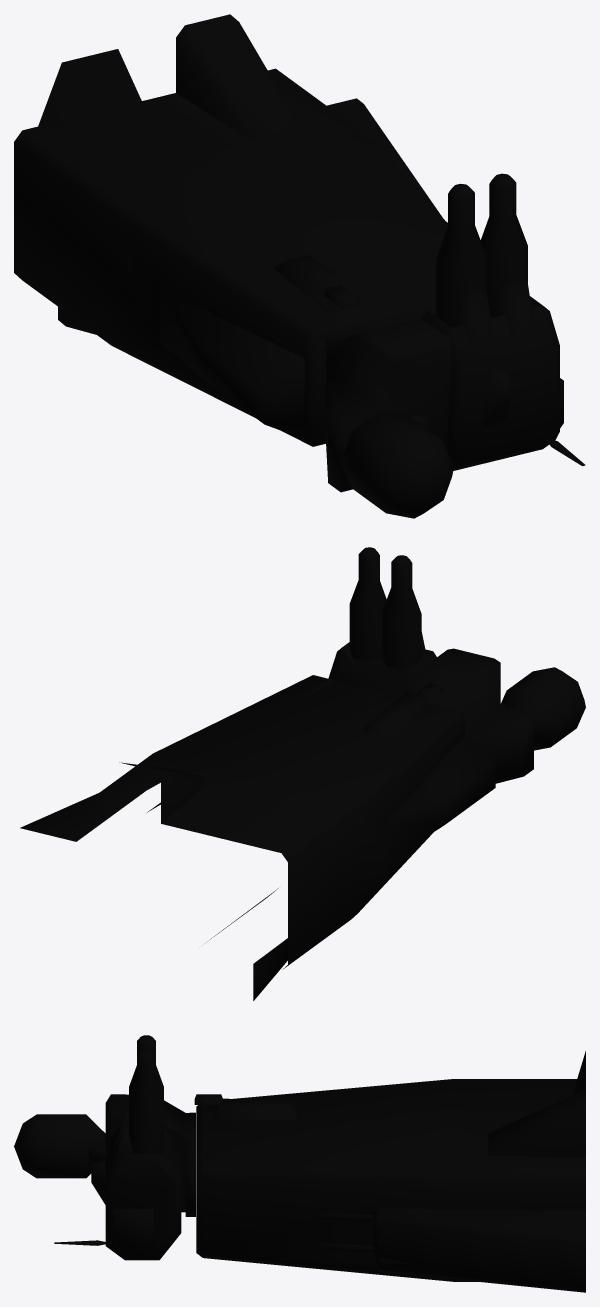
The model's file is turret_hgn_hq_kinetic_01_0.glb.
3 views of the same model, one above another, from view 1: azimuth 30°, elevation 25°; view 2: azimuth 150°, elevation 25°; view 3: azimuth 270°, elevation 25° (orthographic). The views are drawn at different scales.
Parts seen in each view (by area): view 1: turret_hgn_hq_kinetic_01, turret_hgn_hq_kinetic_01_head_low, turret_hgn_hq_kinetic_01_rotate_low; view 2: turret_hgn_hq_kinetic_01, turret_hgn_hq_kinetic_01_rotate_low, turret_hgn_hq_kinetic_01_head_low; view 3: turret_hgn_hq_kinetic_01, turret_hgn_hq_kinetic_01_head_low, turret_hgn_hq_kinetic_01_rotate_low.
Part boxes in pixels (x1,y1,x2,y2): turret_hgn_hq_kinetic_01: [14, 14, 447, 446]; turret_hgn_hq_kinetic_01_head_low: [422, 173, 585, 470]; turret_hgn_hq_kinetic_01_rotate_low: [326, 318, 453, 518]; turret_hgn_hq_kinetic_01: [20, 675, 495, 1000]; turret_hgn_hq_kinetic_01_rotate_low: [411, 648, 585, 783]; turret_hgn_hq_kinetic_01_head_low: [328, 547, 436, 696]; turret_hgn_hq_kinetic_01: [194, 1051, 585, 1292]; turret_hgn_hq_kinetic_01_head_low: [54, 1035, 181, 1260]; turret_hgn_hq_kinetic_01_rotate_low: [14, 1094, 195, 1216].
Bounding box in the file's own units: 5.25 × 4.63 × 9.74.
1 material, 1 textured.
